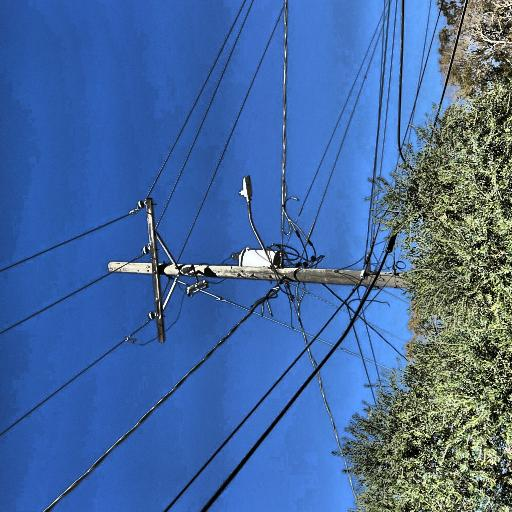insulator: (167, 266, 179, 274), (70, 276, 78, 286), (129, 271, 137, 279)
pole: (72, 228, 128, 512)
street light: (114, 379, 201, 428)
transformer: (112, 378, 136, 429)
